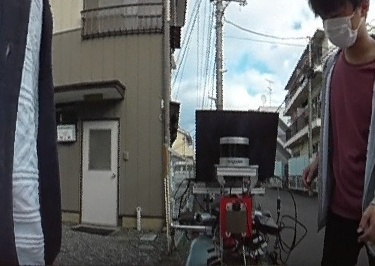person: (302, 0, 375, 266)
